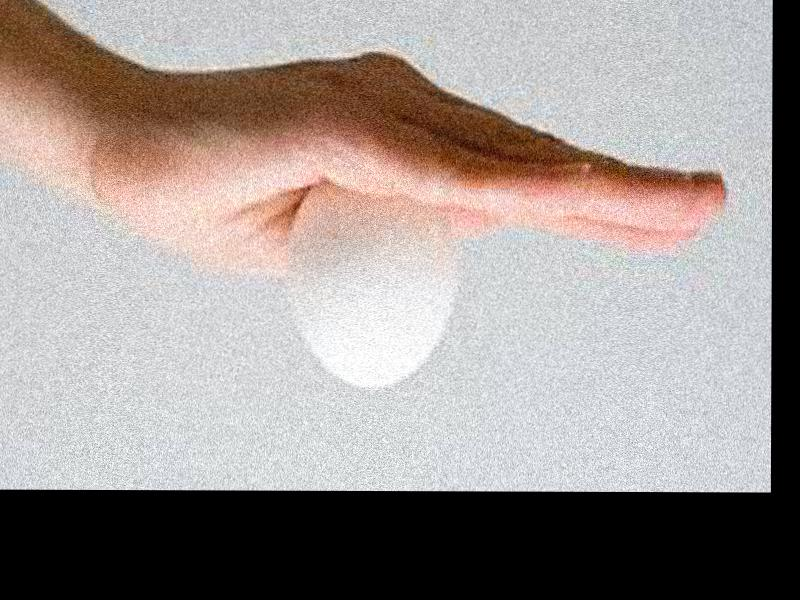Eggs: (296, 180, 457, 386)
